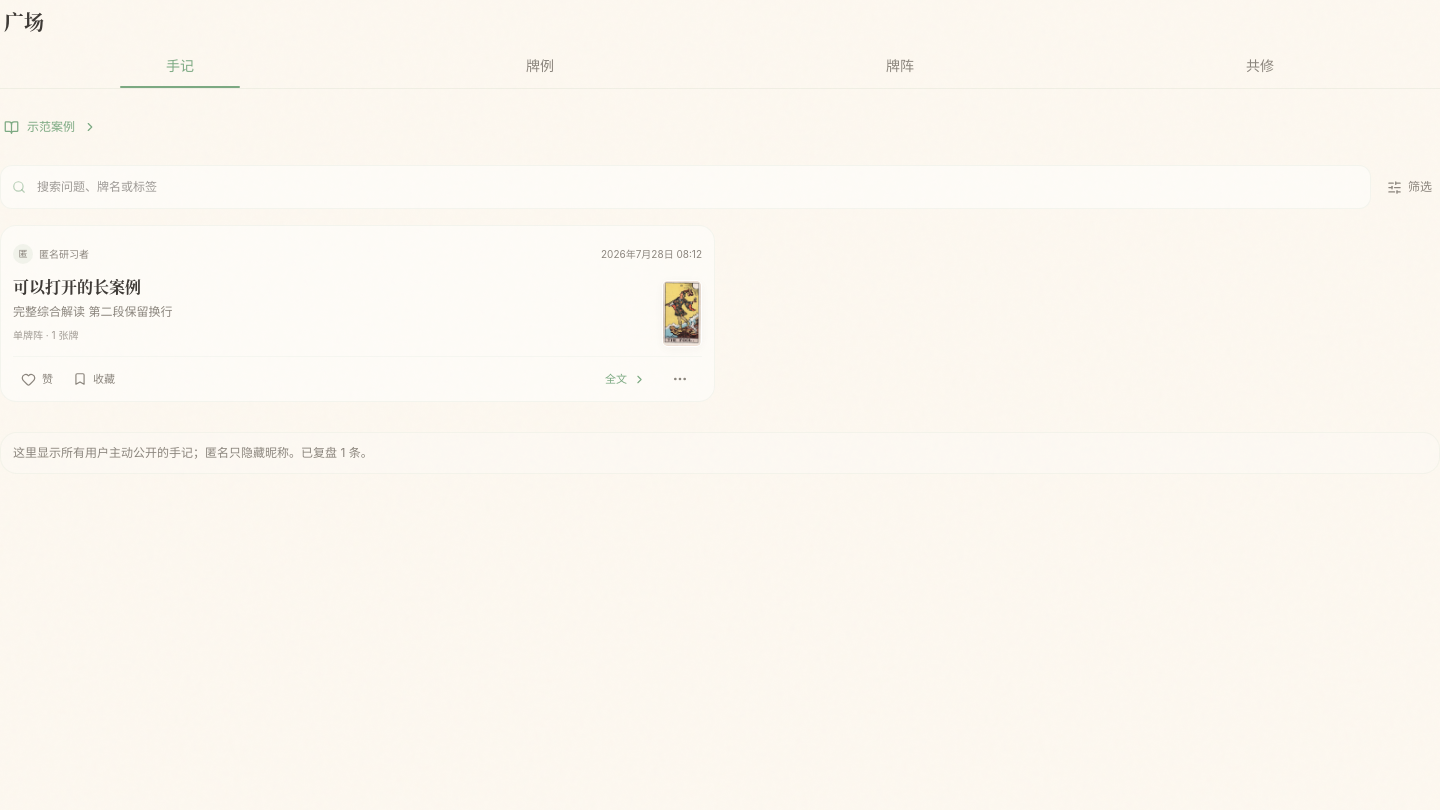
Test: PublicTab › opens the full public reading with moderator=false without private fields or editing
Click the button with aria-label "查看手记：可以打开的长案例" at point(77, 286), box [13, 276, 702, 356]
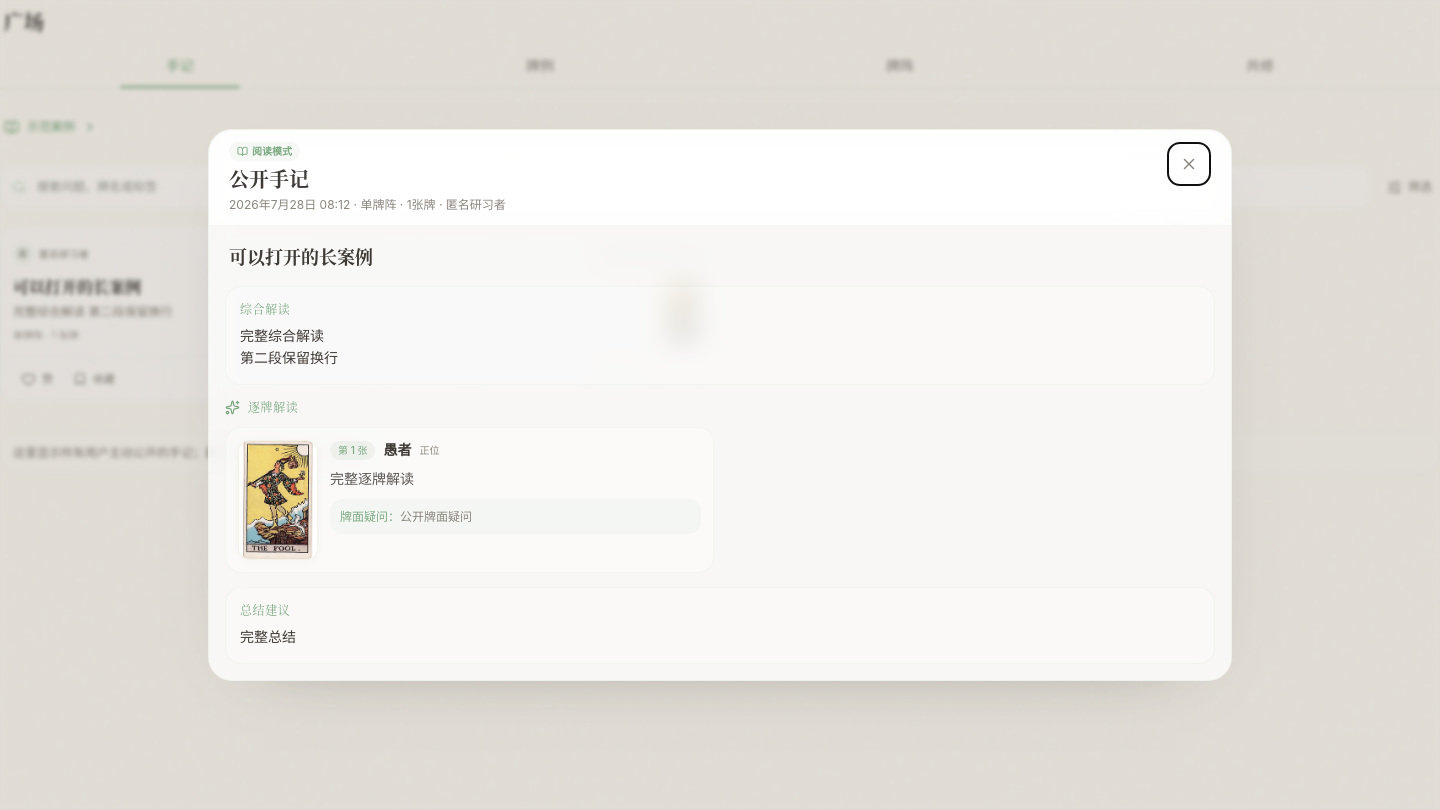
Expected: the text "完整综合解读 第二段保留换行" is shown, [240, 326, 338, 366]
Expected: the text "完整逐牌解读" is shown, [330, 470, 414, 487]
Expected: the text "完整总结" is shown, [240, 628, 296, 645]
Press Escape
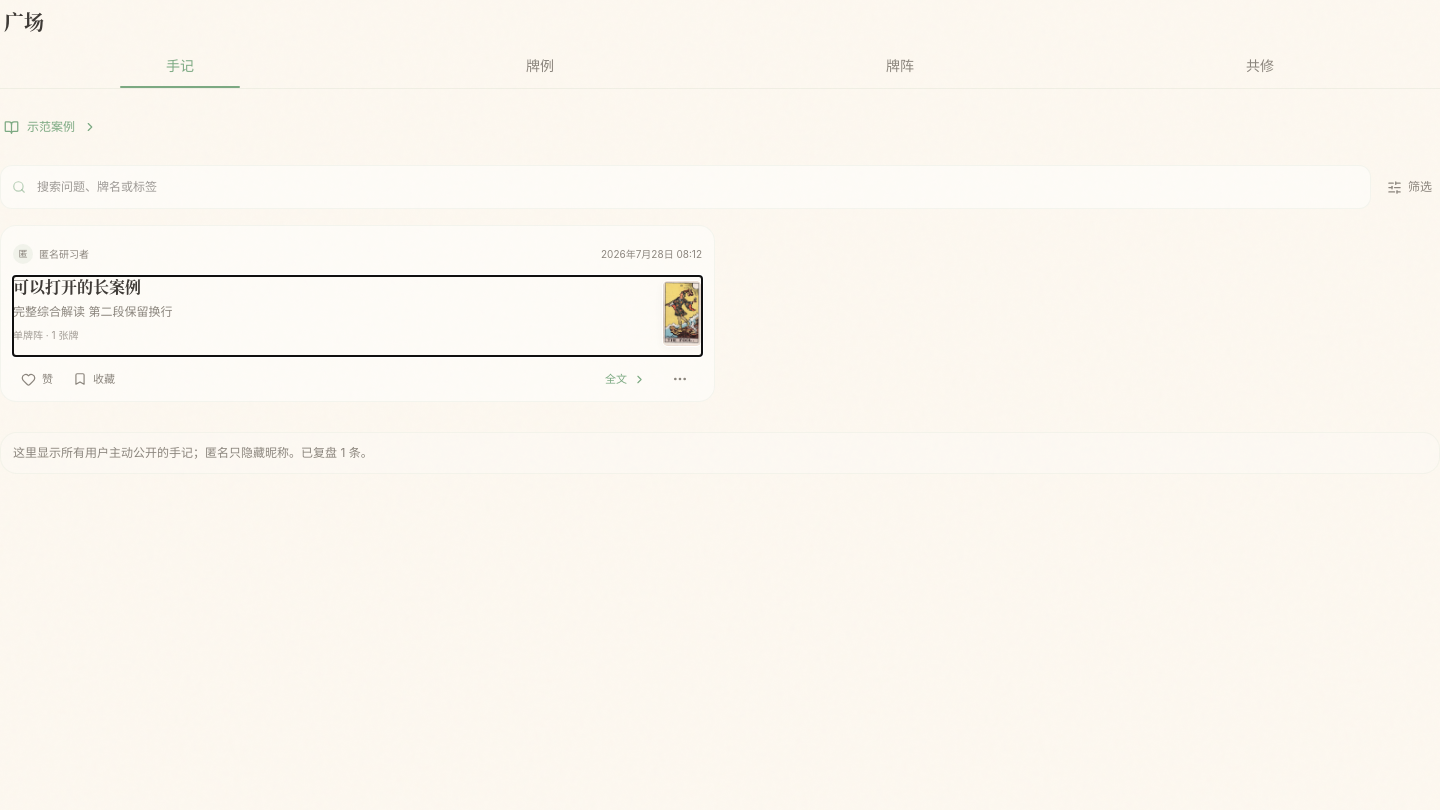
Expected: the dialog is gone
